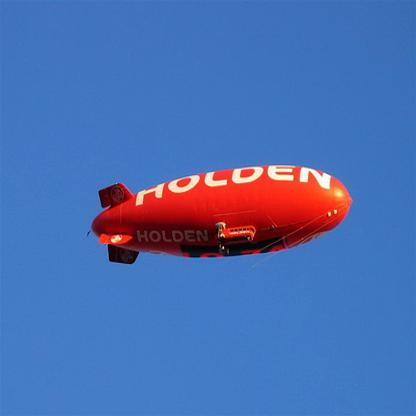Airship: (82, 161, 355, 271)
